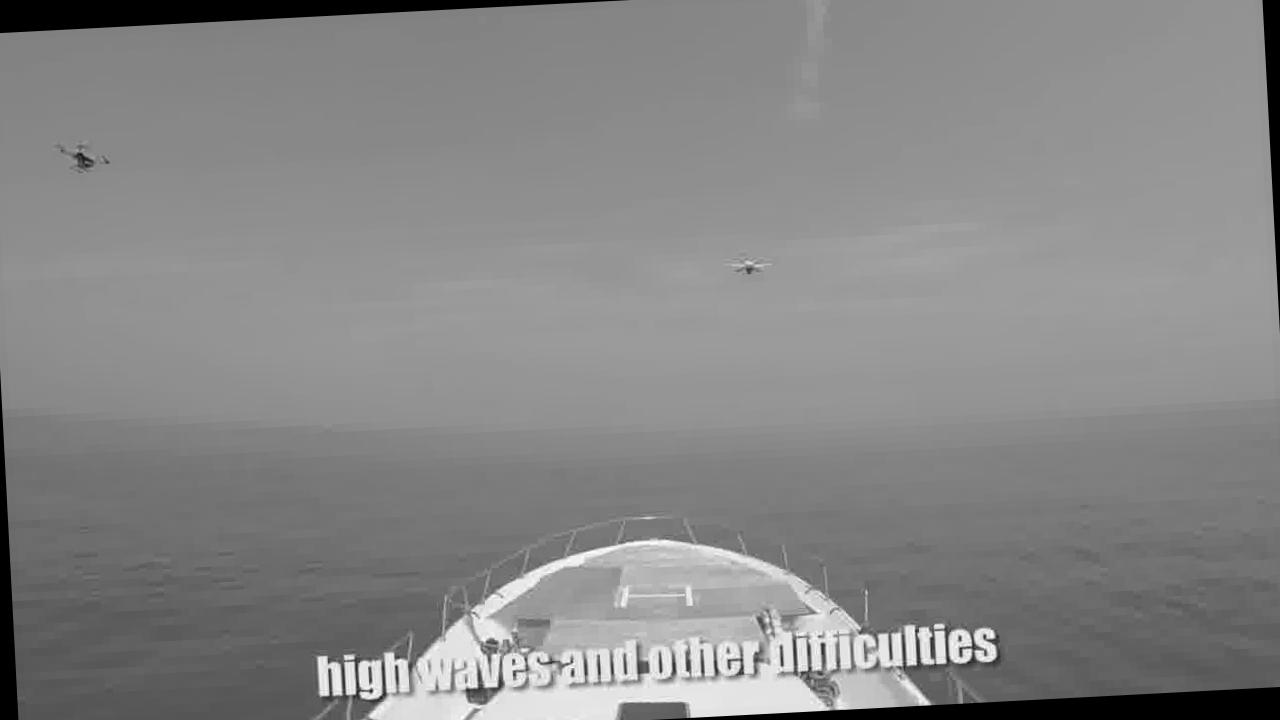drone: (48, 132, 114, 182), (722, 246, 771, 283)
